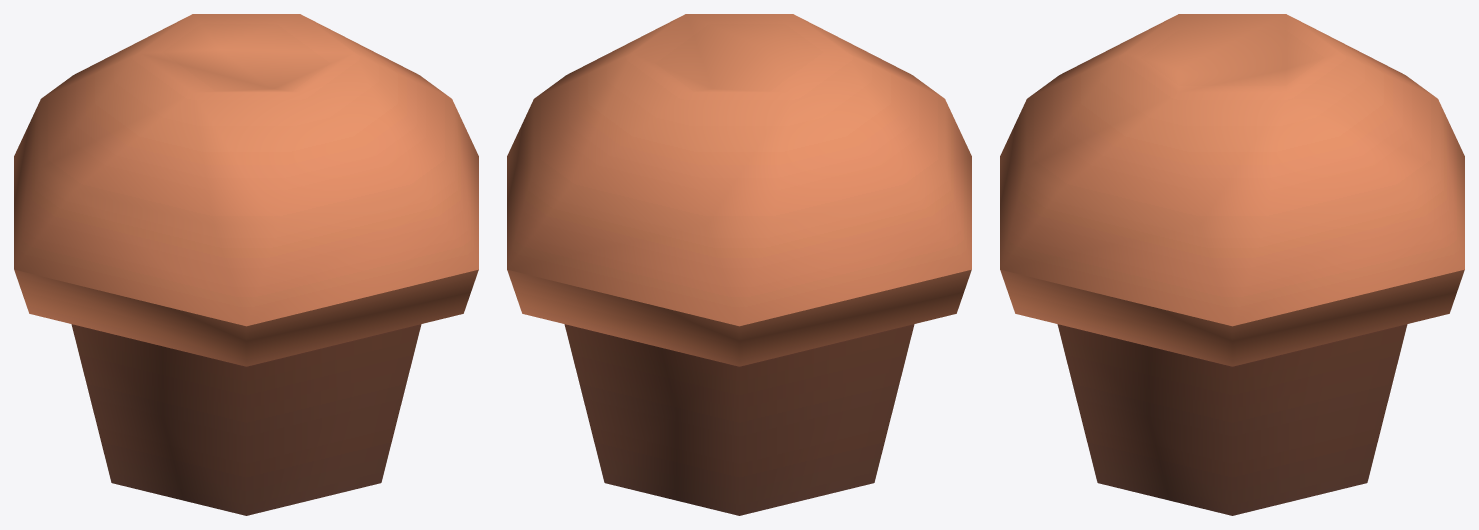
Rendered from food.muffin.glb.
3 renders of one model, left to right at view 1: azimuth 30°, elevation 25°; view 2: azimuth 150°, elevation 25°; view 3: azimuth 270°, elevation 25°, orthographic.
Parts seen in each view (by area): view 1: muffin; view 2: muffin; view 3: muffin.
Boxes of the visible parts, x1,y1,x2,y2 form: muffin: [14, 14, 478, 515]; muffin: [507, 14, 971, 515]; muffin: [1000, 14, 1464, 515].
Size of the model in its own units: 0.0905 by 0.0738 by 0.0784.
Materials: 1 (1 with a texture image).
